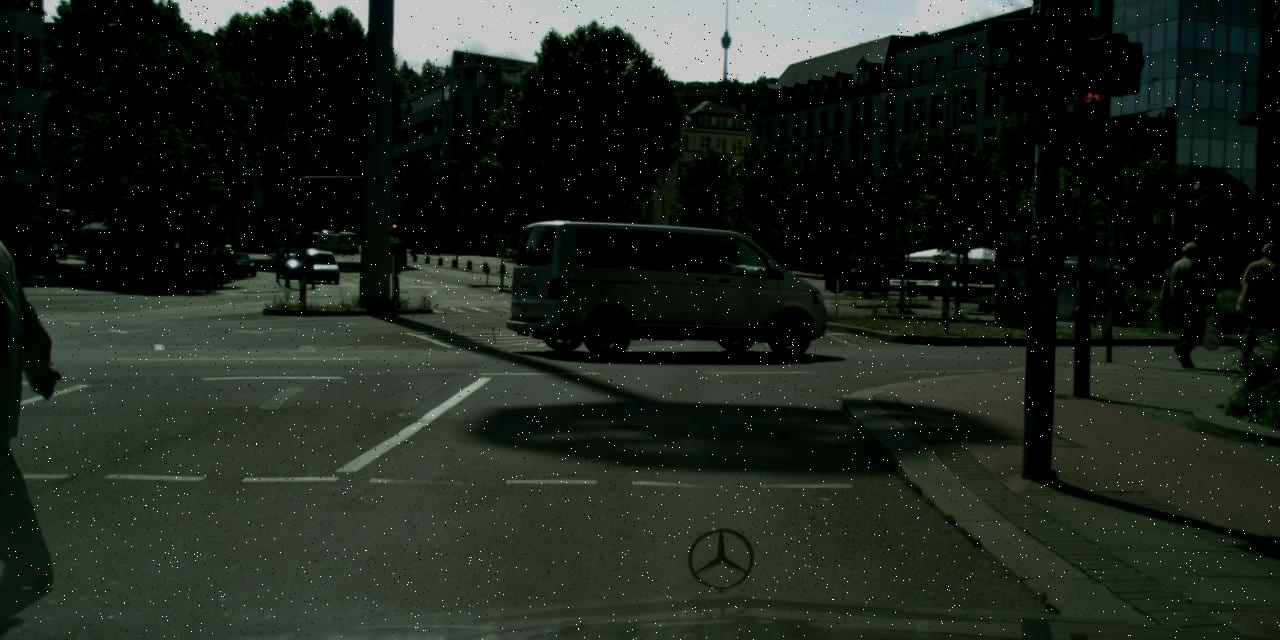ped: (1163, 240, 1213, 364), (1241, 242, 1279, 367), (298, 250, 314, 289), (776, 261, 787, 288), (59, 232, 69, 257), (415, 240, 421, 254)
